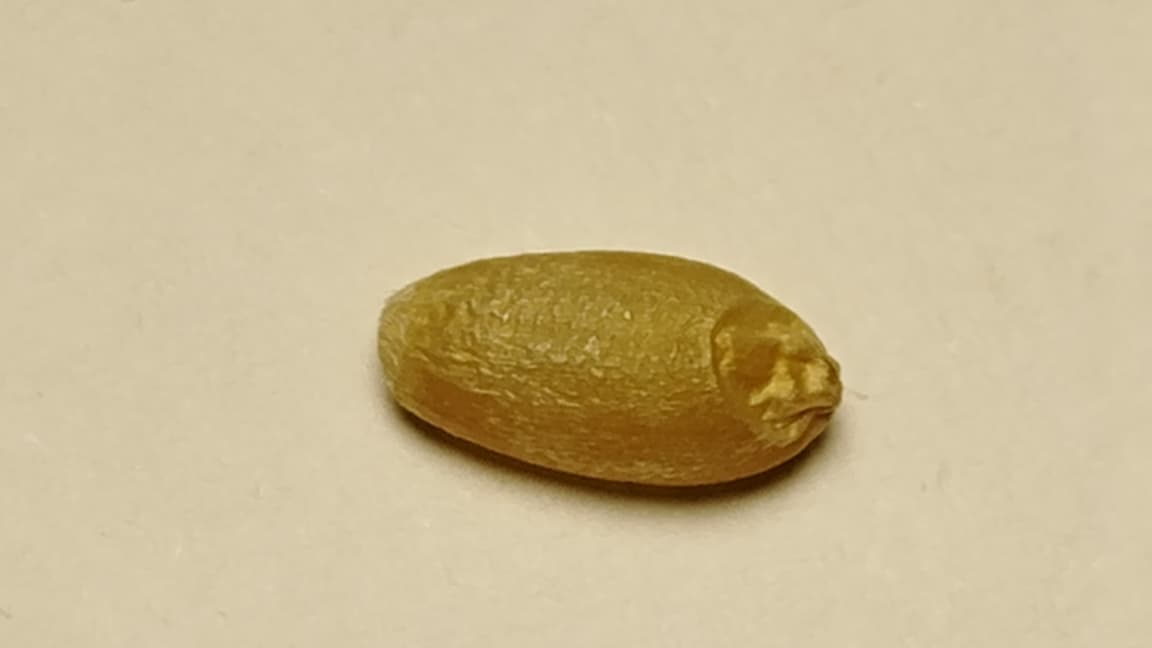healthy: (378, 249, 841, 485)
